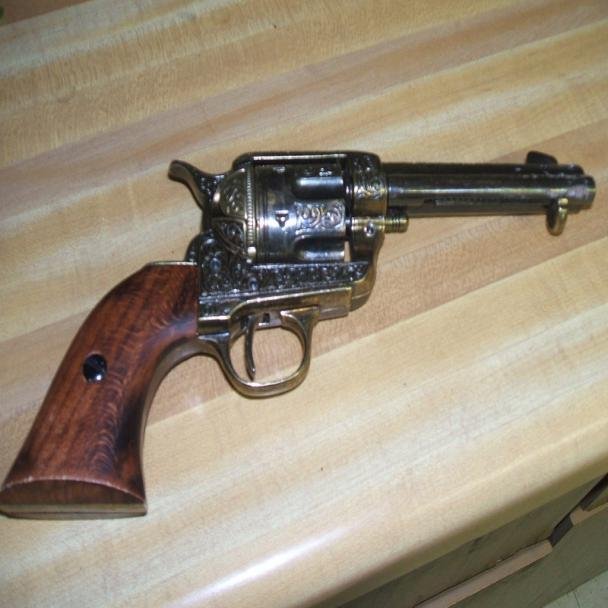Gun: (0, 146, 600, 526)
